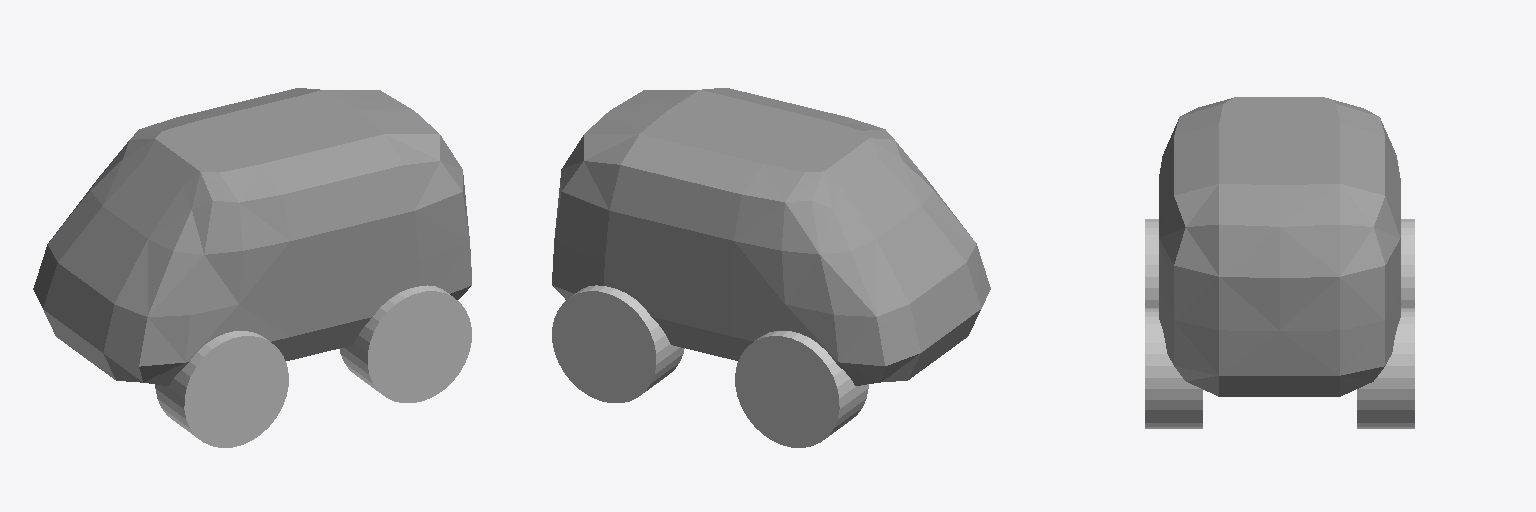
The model's file is car.obj.
3 renders of one model, left to right at view 1: azimuth 30°, elevation 25°; view 2: azimuth 150°, elevation 25°; view 3: azimuth 270°, elevation 25°, orthographic.
Parts seen in each view (by area): view 1: Cube, Cylinder; view 2: Cube, Cylinder; view 3: Cube, Cylinder.
Boxes of the visible parts, box(x1,y1,x2,y2) form: Cube: box(33, 88, 471, 385); Cylinder: box(155, 285, 471, 447); Cube: box(552, 88, 990, 385); Cylinder: box(552, 285, 868, 447); Cube: box(1159, 97, 1400, 396); Cylinder: box(1145, 219, 1414, 428).
Size of the model in its own units: 3.5 by 2.2 by 2.23.